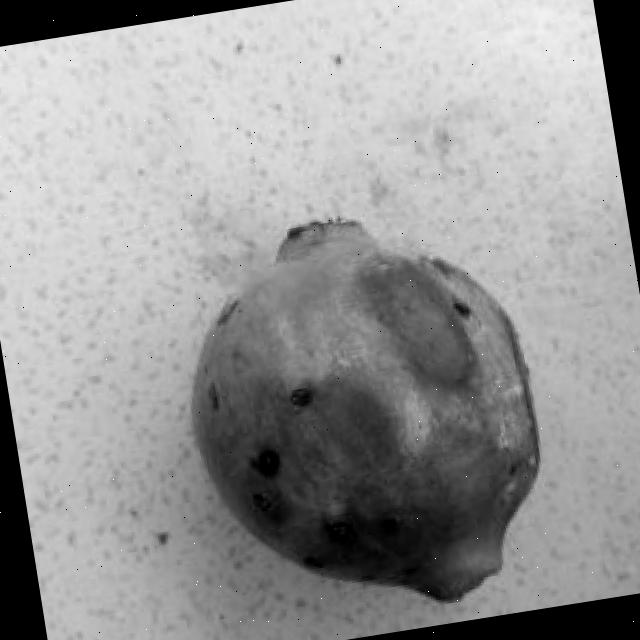overripe: (155, 185, 566, 637)
